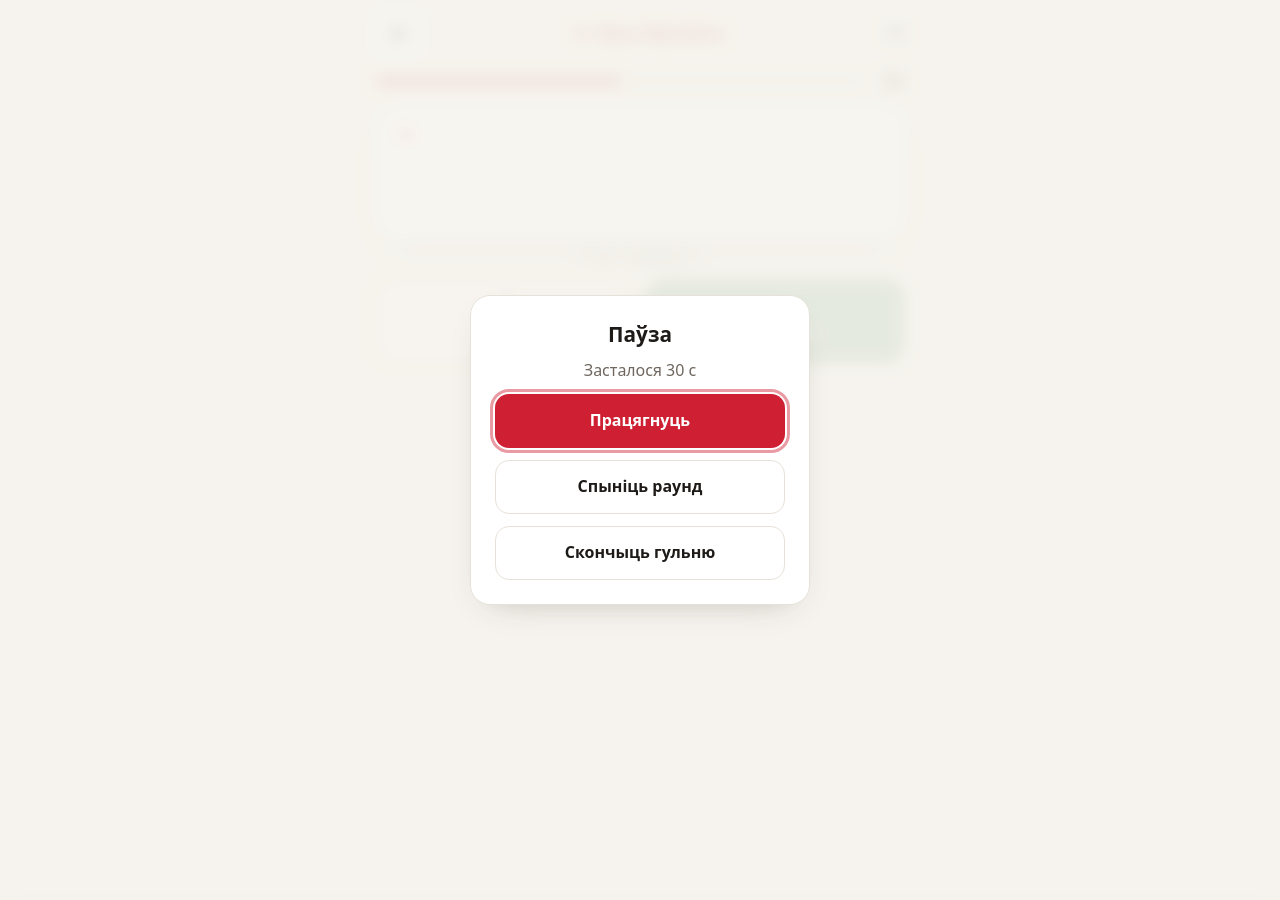
Test: PlayScreen › скончыць гульню з паўзы › кнопка ёсць толькі ў попапе паўзы і спачатку пытаецца
Expected: the dialog "Скончыць гульню?" is not shown
Step 1. Click the button "Скончыць гульню" → (640, 553), box top-left (495, 526), bottom-right (785, 580)
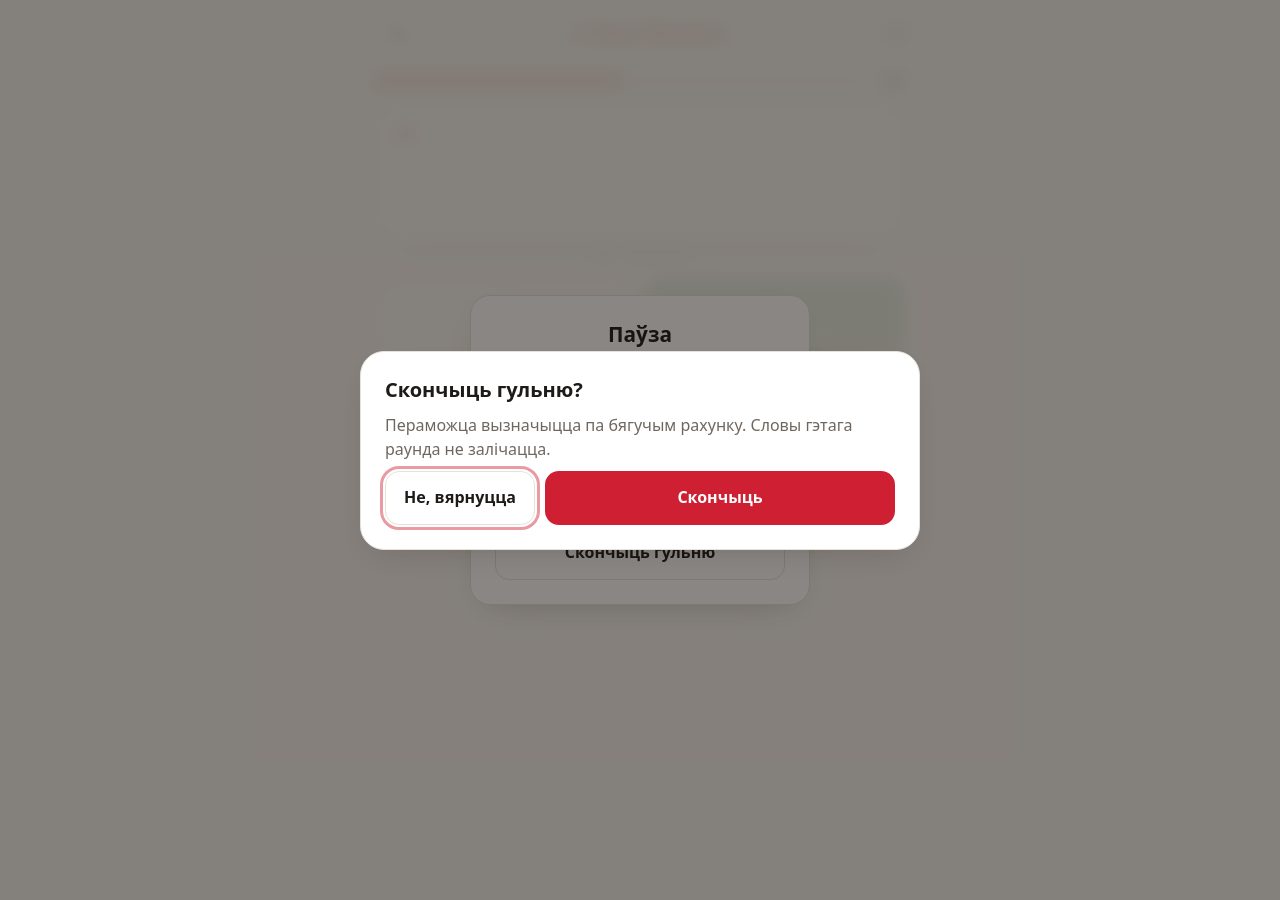
Expected: the dialog "Скончыць гульню?" shows "Пераможца вызначыцца па бягучым рахунку. Словы гэтага раунда не залічацца.", top-left (385, 414), bottom-right (853, 460)
